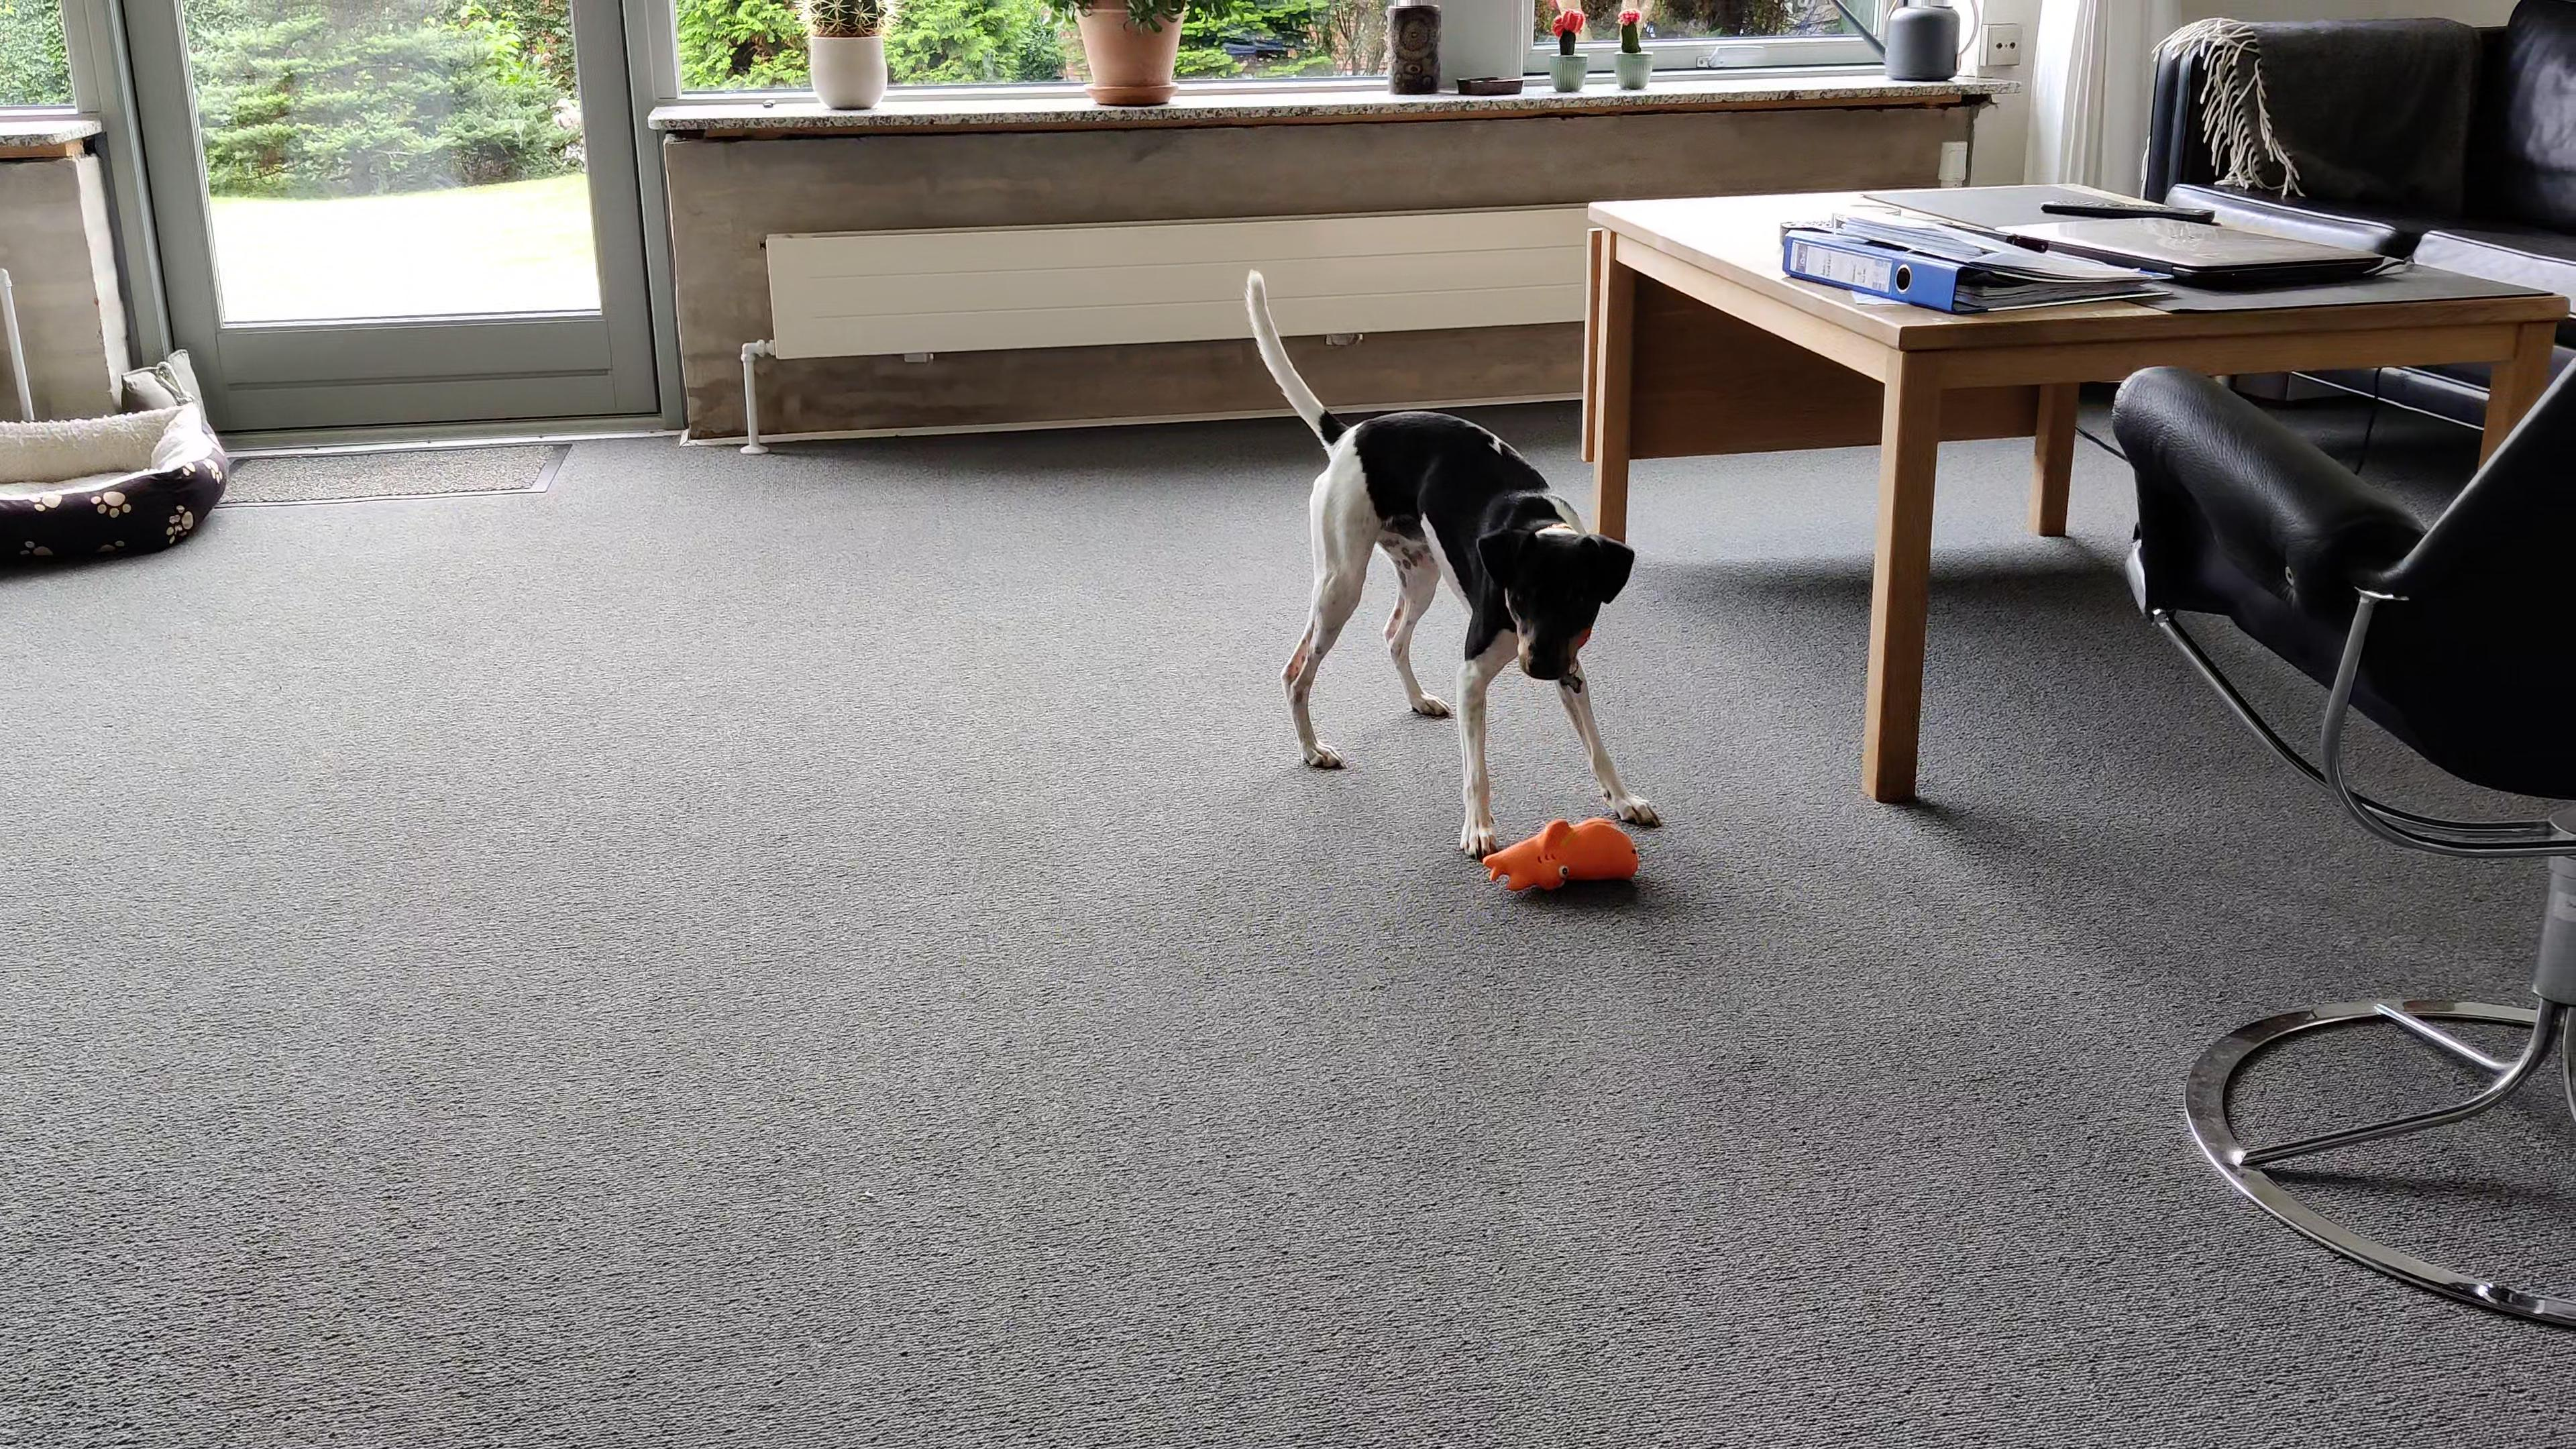Dog: (1233, 264, 1665, 863)
